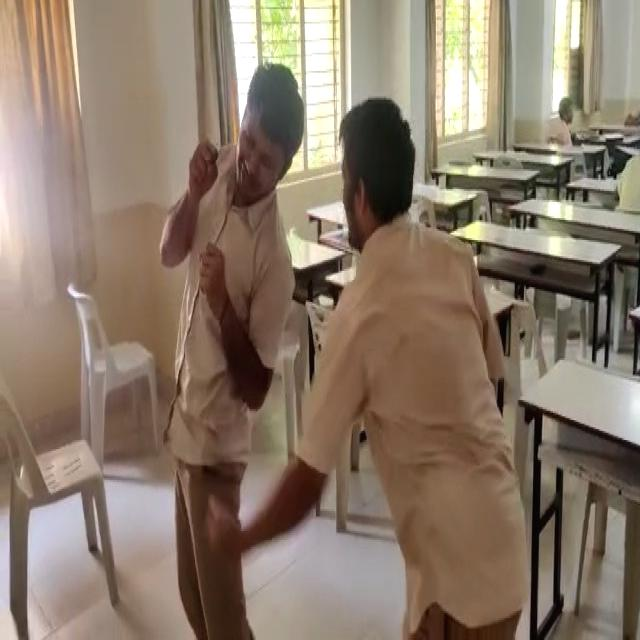fight: (131, 43, 535, 606)
